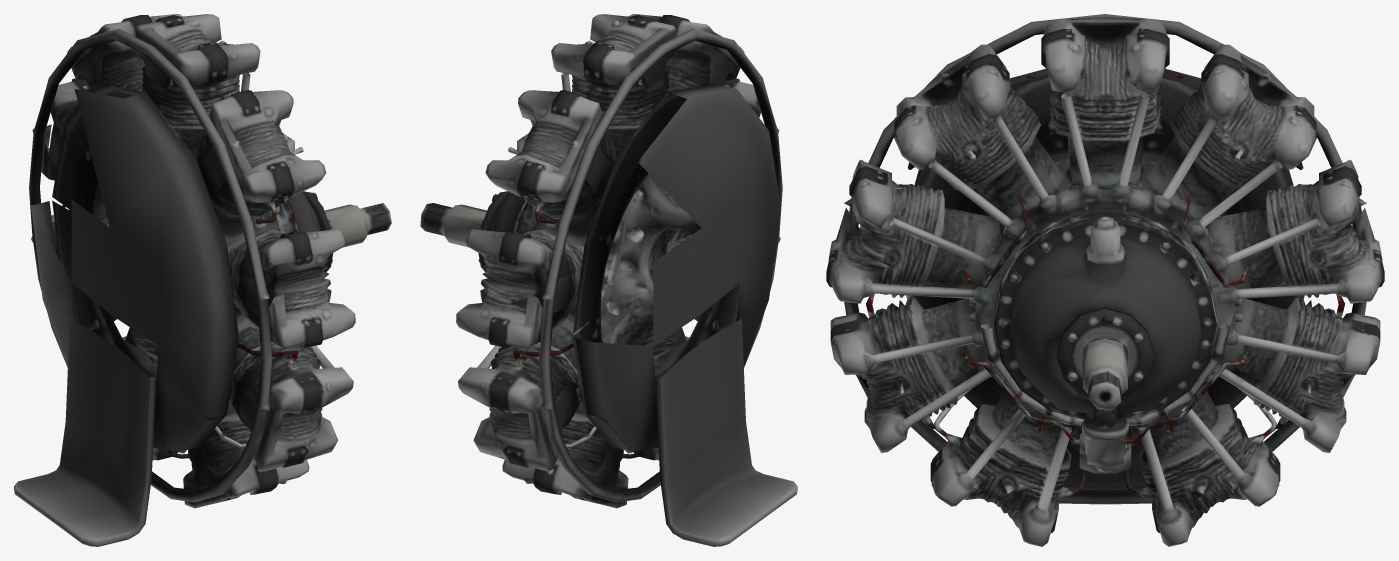
The model's file is r1820_remesh.glb.
3 views of the same model, side by side, from view 1: azimuth 30°, elevation 25°; view 2: azimuth 150°, elevation 25°; view 3: azimuth 270°, elevation 25° (orthographic). The views are drawn at different scales.
Visible parts, largest first — view 1: tripo_node_f6bbd5ed-38fd-4c5d-96dd-4ff65; view 2: tripo_node_f6bbd5ed-38fd-4c5d-96dd-4ff65; view 3: tripo_node_f6bbd5ed-38fd-4c5d-96dd-4ff65.
Part boxes in pixels (left/top/right/bottom): tripo_node_f6bbd5ed-38fd-4c5d-96dd-4ff65: left=14, top=14, right=391, bottom=546; tripo_node_f6bbd5ed-38fd-4c5d-96dd-4ff65: left=420, top=14, right=797, bottom=546; tripo_node_f6bbd5ed-38fd-4c5d-96dd-4ff65: left=826, top=14, right=1384, bottom=546.
Bounding box in the file's own units: 0.775 × 0.9961 × 0.9961.
1 material, 1 textured.
